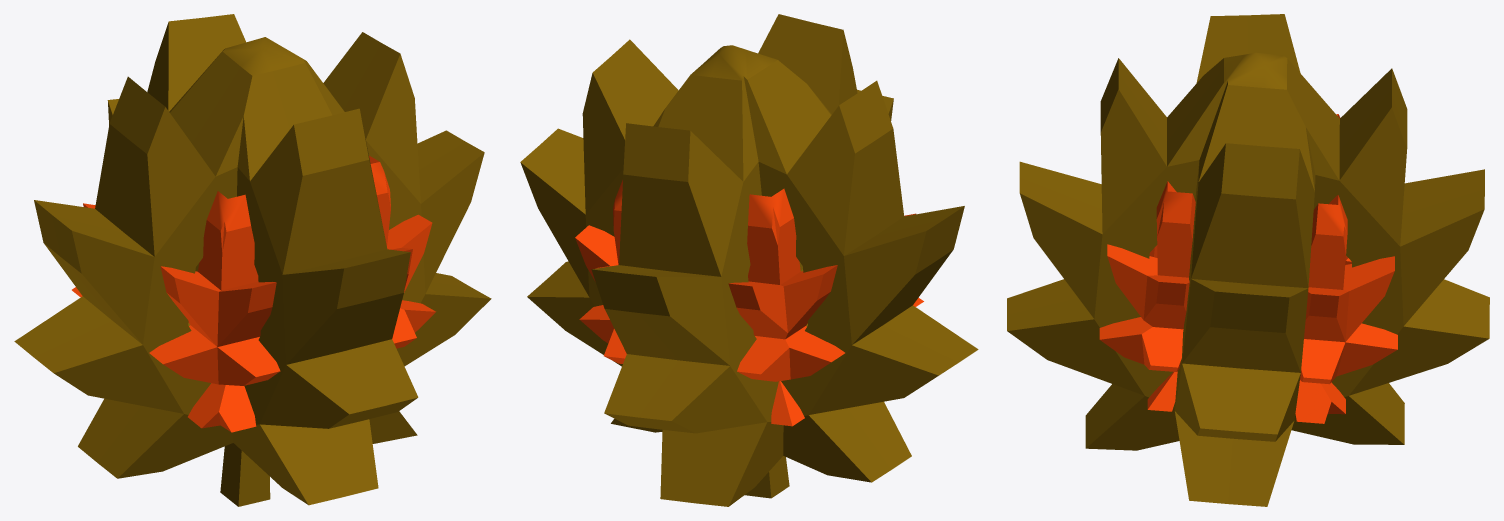
Rendered from Props_Scrap.FBX.
3 renders of one model, left to right at view 1: azimuth 30°, elevation 25°; view 2: azimuth 150°, elevation 25°; view 3: azimuth 270°, elevation 25°, orthographic. The views are drawn at different scales.
Parts seen in each view (by area): view 1: Scrap; view 2: Scrap; view 3: Scrap.
Part boxes in pixels (bbox=[...]): Scrap: bbox=[14, 14, 491, 506]; Scrap: bbox=[520, 14, 978, 506]; Scrap: bbox=[1007, 14, 1489, 506].
Size of the model in its own units: 213 by 214 by 213.
